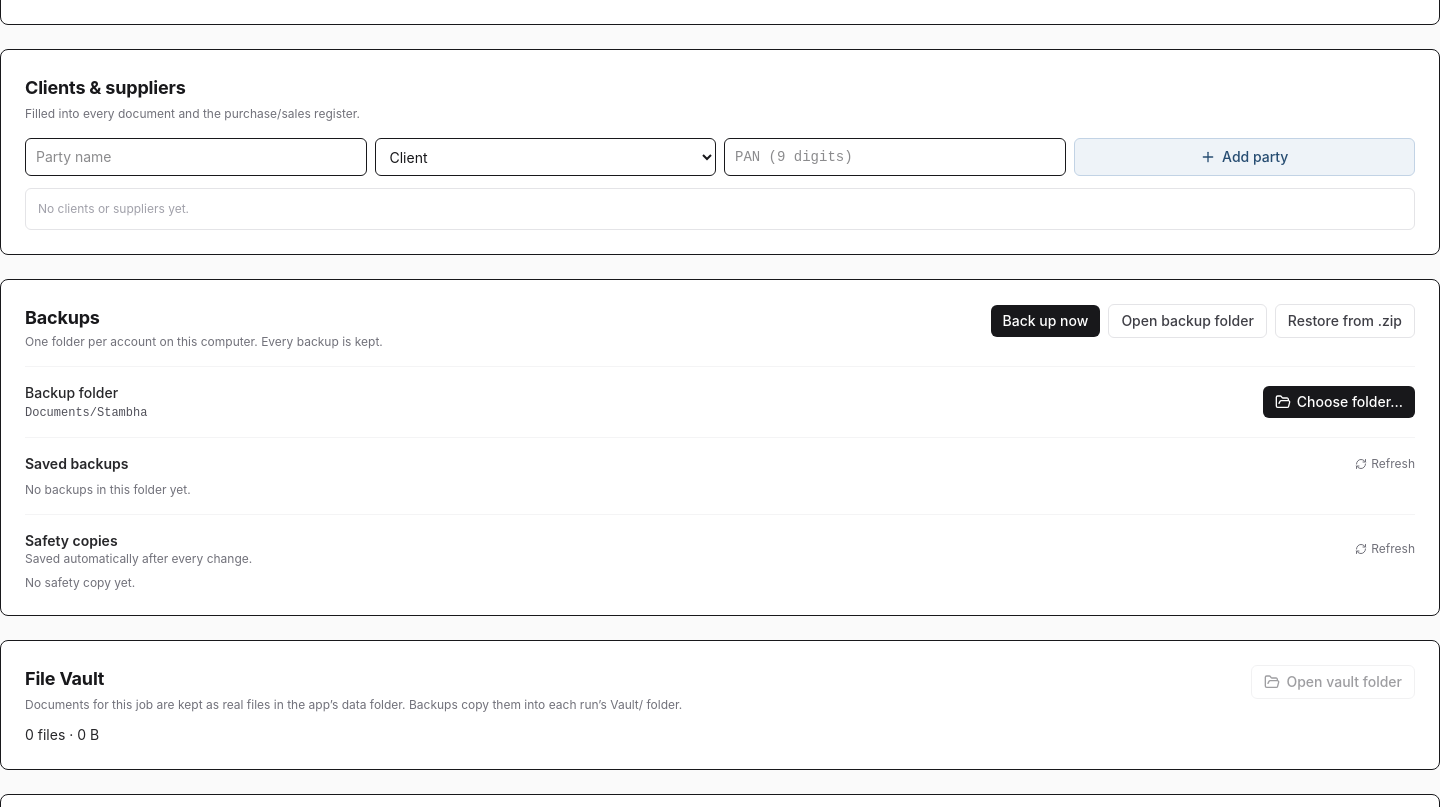
Test: backup folder setting › refuses a relative path and keeps the old folder
This screenshot has width=1440, height=807.
(page scrolled)
Click the button with test id "backup-location-choose" at point(1339, 402), box [1263, 386, 1415, 418]
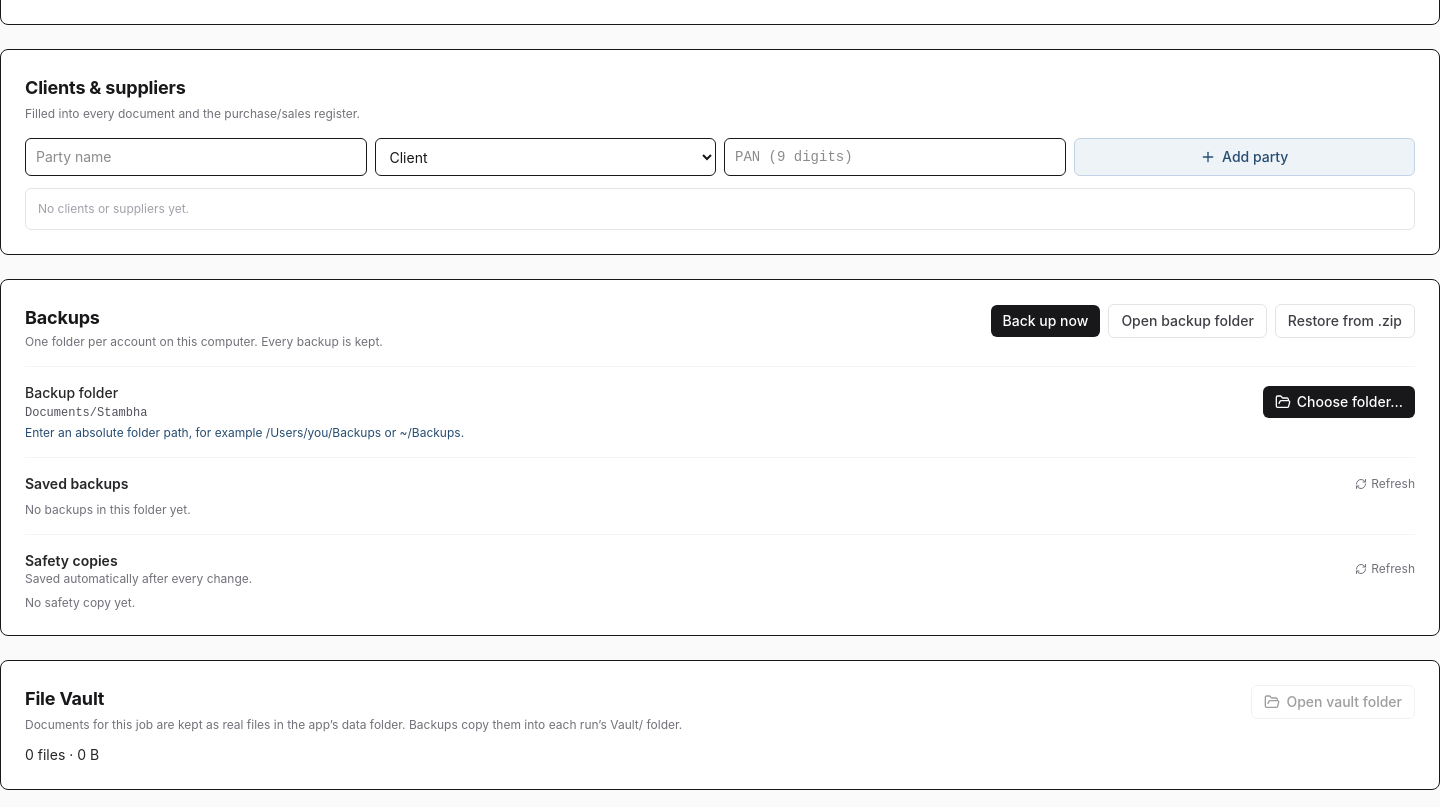
expect the text with test id "backup-location-current" reads "Documents/Stambha": met, box [25, 406, 147, 420]
expect the text with test id "backup-location-msg" shows "absolute": met, box [25, 425, 464, 440]
